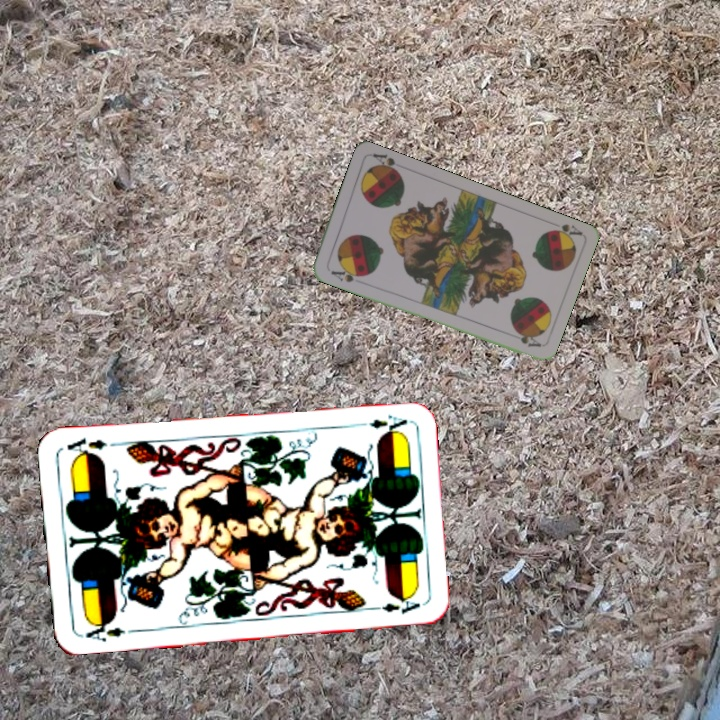EA: (351, 410, 410, 437), (82, 616, 128, 644)
SA: (545, 220, 584, 242), (327, 264, 366, 285)
